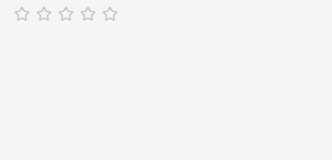
Test: FeedbackStars › shows Thanks! after selection
Click the button named "4 star". click: [88, 14]
box: [78,4,98,24]
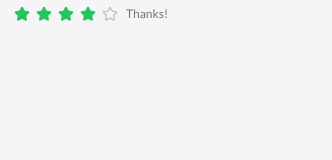
Check: the text "Thanks!" is shown, box [126,6,168,22]
